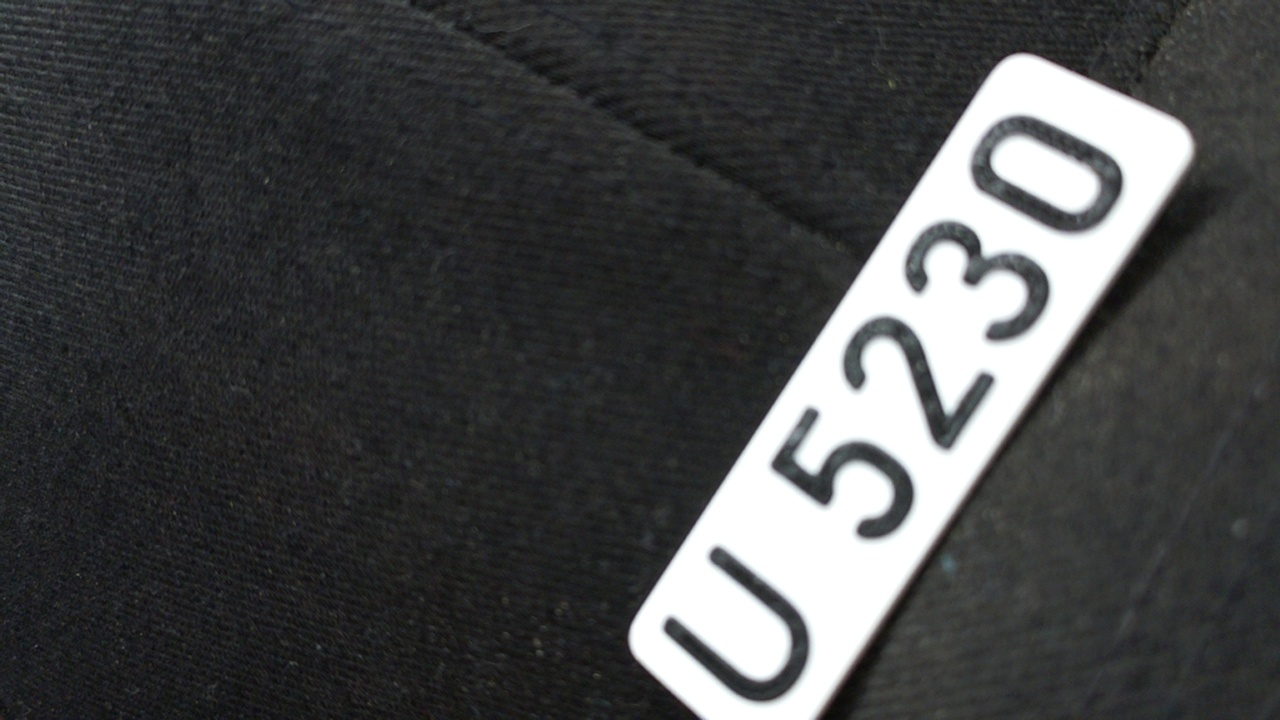license_plate: (625, 44, 1203, 720)
